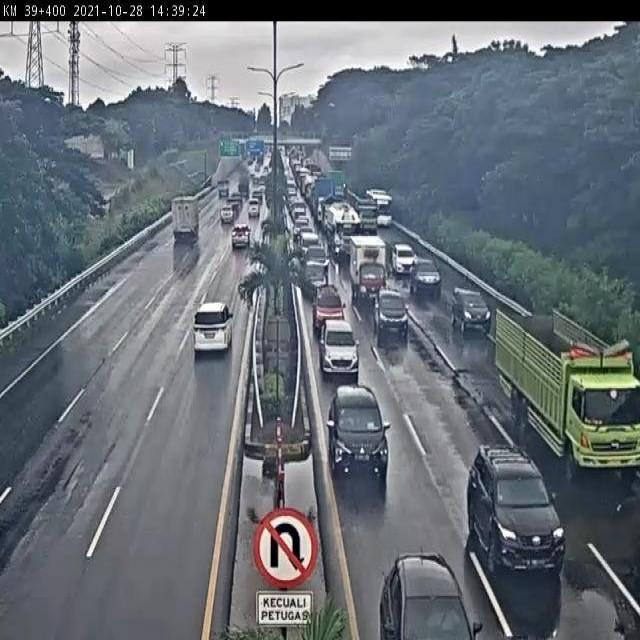big truck: (485, 296, 640, 489), (322, 199, 363, 265)
car: (460, 442, 574, 586), (366, 553, 487, 640), (320, 376, 393, 492), (188, 287, 239, 369), (315, 319, 366, 384), (448, 284, 495, 345), (372, 286, 417, 346), (304, 279, 348, 333), (406, 252, 443, 304), (390, 240, 417, 279), (230, 220, 256, 252), (246, 196, 264, 220), (217, 204, 237, 223)
small truck: (343, 234, 397, 314), (166, 192, 202, 248)
